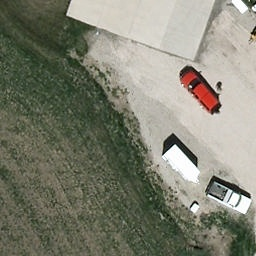camping car: (164, 143, 202, 183)
car: (178, 67, 225, 113)
pickup: (206, 181, 254, 215)
